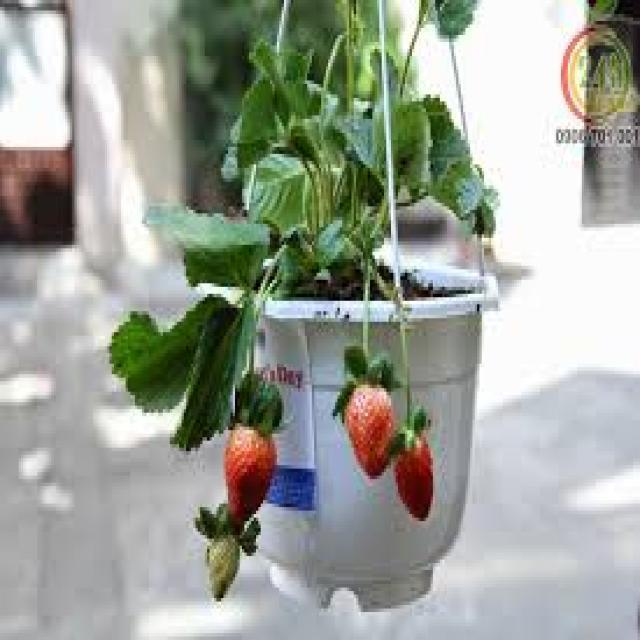Fruta sana: (224, 428, 278, 534), (342, 379, 395, 481), (394, 423, 441, 525)
